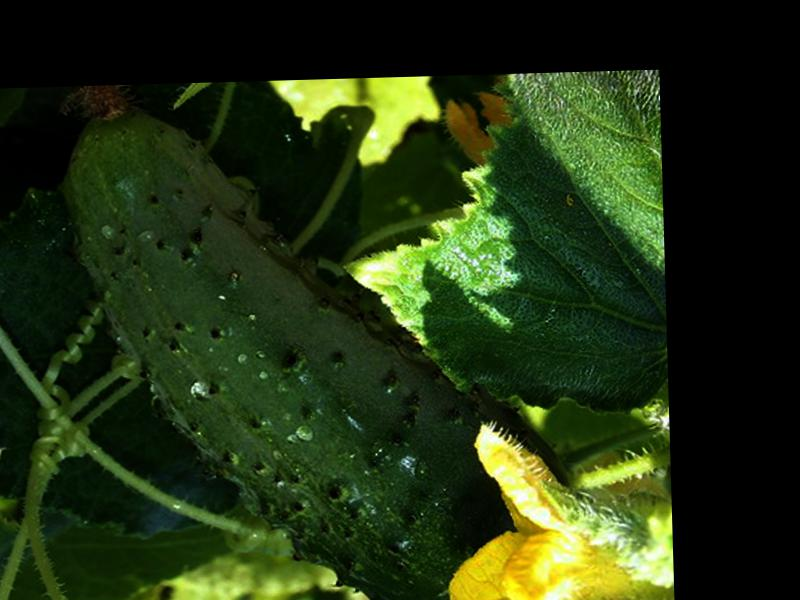Cucumber: (59, 73, 573, 600)
